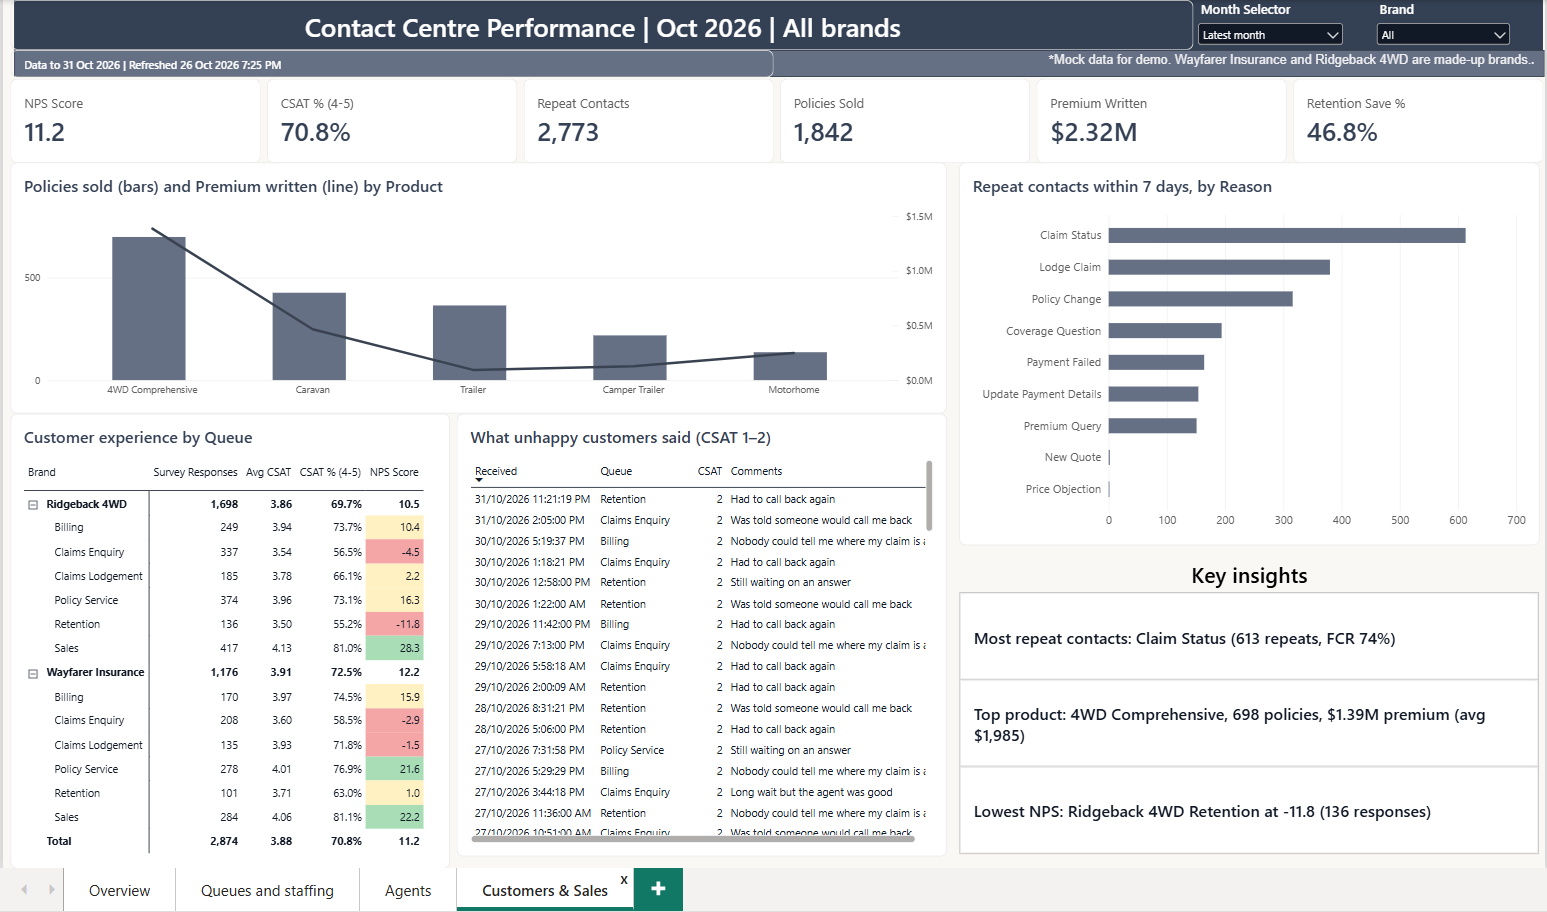

This screenshot's page, from the dashboard's own definition file:
{"tool":"powerbi","page":{"name":"Customers & Sales","canvas":[1920,1080],"ordinal":3},"visuals":[{"type":"shape","title":"Accent Bg","box":[13.4,62.5,1904.4,33.5],"z":0},{"type":"shape","title":"Header Bg","box":[13.4,0,1902.1,62.5],"z":1000},{"type":"slicer","fields":{"Values":["Date.Month Selector"]},"box":[1481,0,190,62.7],"z":2000},{"type":"slicer","fields":{"Values":["Queue.Brand"]},"box":[1704.2,0,175.2,62.7],"z":3000},{"type":"cardVisual","fields":{"Data":["Calls.Report Title"]},"box":[9.2,0,1471.8,62.7],"z":4000},{"type":"cardVisual","fields":{"Data":["Calls.Data As At"]},"box":[10.1,62.3,949.3,34.2],"z":5000},{"type":"cardVisual","fields":{"Data":["Surveys.NPS Score","Surveys.CSAT % (4-5)","Interactions.Repeat Contacts","Interactions.Policies Sold","Interactions.Premium Written","Interactions.Retention Save %"]},"box":[9.2,97.8,1907.1,105.1],"z":5001},{"type":"clusteredBarChart","title":"Repeat contacts within 7 days, by Reason","fields":{"Category":["Interactions.contact_reason"],"Y":["Interactions.Repeat Contacts"]},"box":[1188.6,201.9,721.9,476.2],"z":5002},{"type":"lineClusteredColumnComboChart","title":"Policies sold (bars) and Premium written (line) by Product","fields":{"Category":["Interactions.product"],"Y":["Interactions.Policies Sold"],"Y2":["Interactions.Premium Written"]},"box":[9.5,201.9,1163.8,312.4],"z":5003},{"type":"pivotTable","title":"Customer experience by Queue","fields":{"Rows":["Queue.Brand","Queue.Queue"],"Values":["Surveys.Survey Responses","Surveys.Avg CSAT","Surveys.CSAT % (4-5)","Surveys.NPS Score"]},"box":[9.5,514.3,546.7,565.7],"z":5004},{"type":"tableEx","title":"What unhappy customers said (CSAT 1–2)","fields":{"Values":["Surveys.response_ts_local","Queue.Queue","Surveys.csat","Surveys.verbatim"]},"box":[563.8,514.3,609.5,550.5],"z":5005},{"type":"cardVisual","title":"Key insights","fields":{"Data":["Calls.Top Repeat Reason","Calls.Top Product","Calls.Lowest NPS Queue"]},"box":[1188.6,697.1,721.9,367.6],"z":5006},{"type":"textbox","box":[961.3,62.3,943.2,34.2],"z":5007}]}

Visuals, with their boxes on the page's 1920x1080 design canvas (x1, y1, x2, y2). These are canvas units, not pixel positions in the 1547x912 screenshot, which may show the page scaled, cropped or inside an application window:
"Accent Bg" shape: 13/62/1918/96
"Header Bg" shape: 13/0/1916/62
slicer - Date.Month Selector: 1481/0/1671/63
slicer - Queue.Brand: 1704/0/1879/63
cardVisual - Calls.Report Title: 9/0/1481/63
cardVisual - Calls.Data As At: 10/62/959/96
cardVisual - Surveys.NPS Score x Surveys.CSAT % (4-5): 9/98/1916/203
"Repeat contacts within 7 days, by Reason" clusteredBarChart: 1189/202/1910/678
"Policies sold (bars) and Premium written (line) by Product" lineClusteredColumnComboChart: 10/202/1173/514
"Customer experience by Queue" pivotTable: 10/514/556/1080
"What unhappy customers said (CSAT 1–2)" tableEx: 564/514/1173/1065
"Key insights" cardVisual: 1189/697/1910/1065
textbox: 961/62/1904/96
